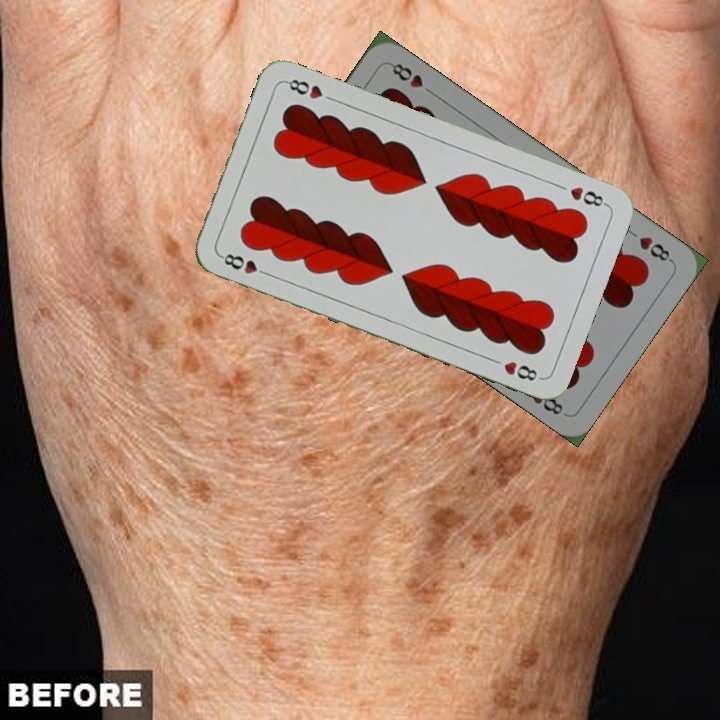H8: (216, 249, 273, 279), (635, 232, 676, 265), (566, 182, 610, 210)
